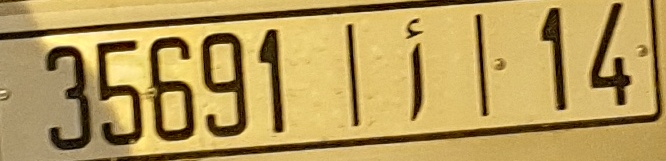1: (536, 5, 570, 114), (256, 27, 289, 136)
3: (42, 43, 93, 152)
4: (587, 0, 636, 108)
5: (94, 39, 144, 147)
6: (150, 37, 197, 143)
9: (199, 31, 251, 138)
a: (402, 16, 427, 123)
